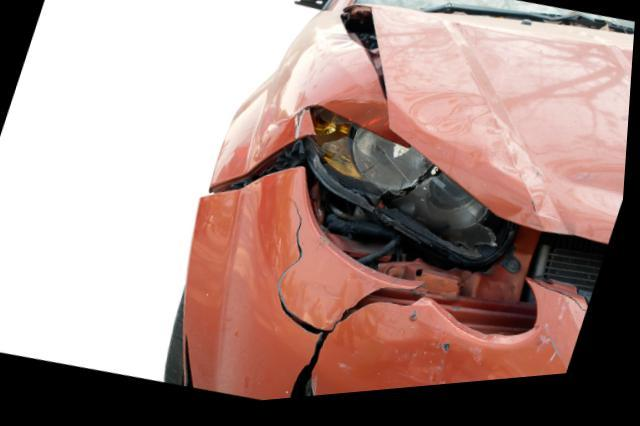crack: (282, 201, 430, 404), (534, 289, 592, 325)
dent: (415, 103, 628, 246)
dislocated part: (189, 145, 593, 406)
lamp broken: (313, 114, 517, 273)
